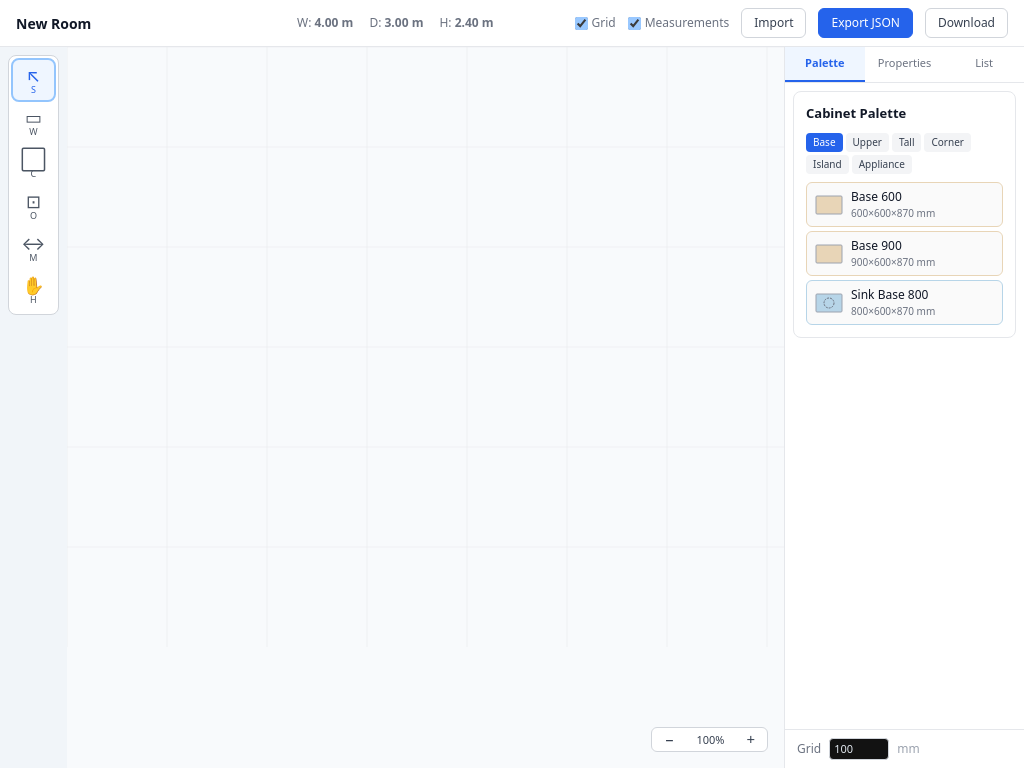
it: FloorPlanEditor interactions › zoom reset button restores 100%
Click the button with test id "zoom-in-btn" at (751, 740), box x1=740 y1=730 x2=761 y2=749
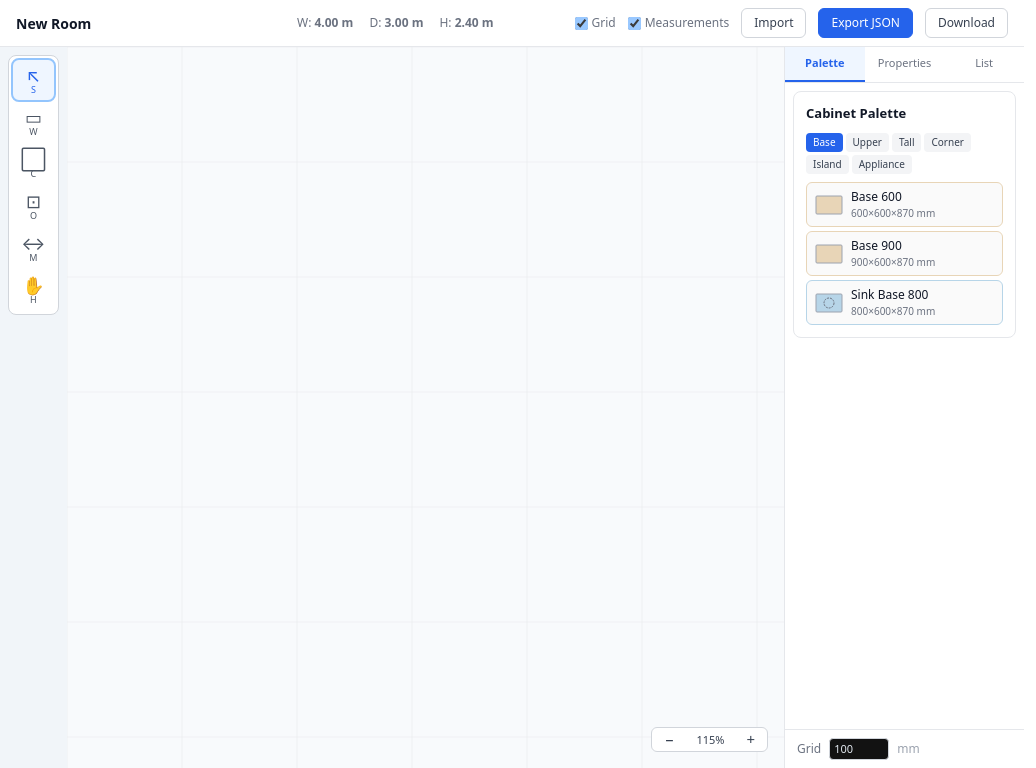
Click the button with test id "zoom-in-btn" at (751, 740), box x1=740 y1=730 x2=761 y2=749
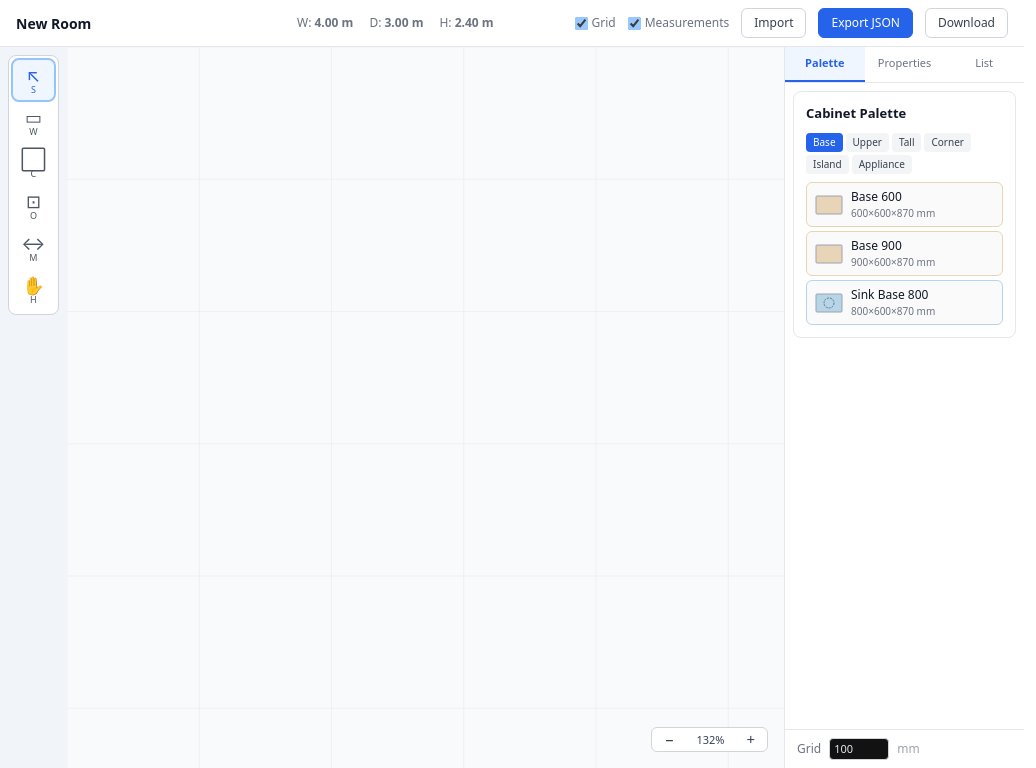
Click the button with test id "zoom-reset-btn" at (710, 740), box x1=684 y1=732 x2=736 y2=747
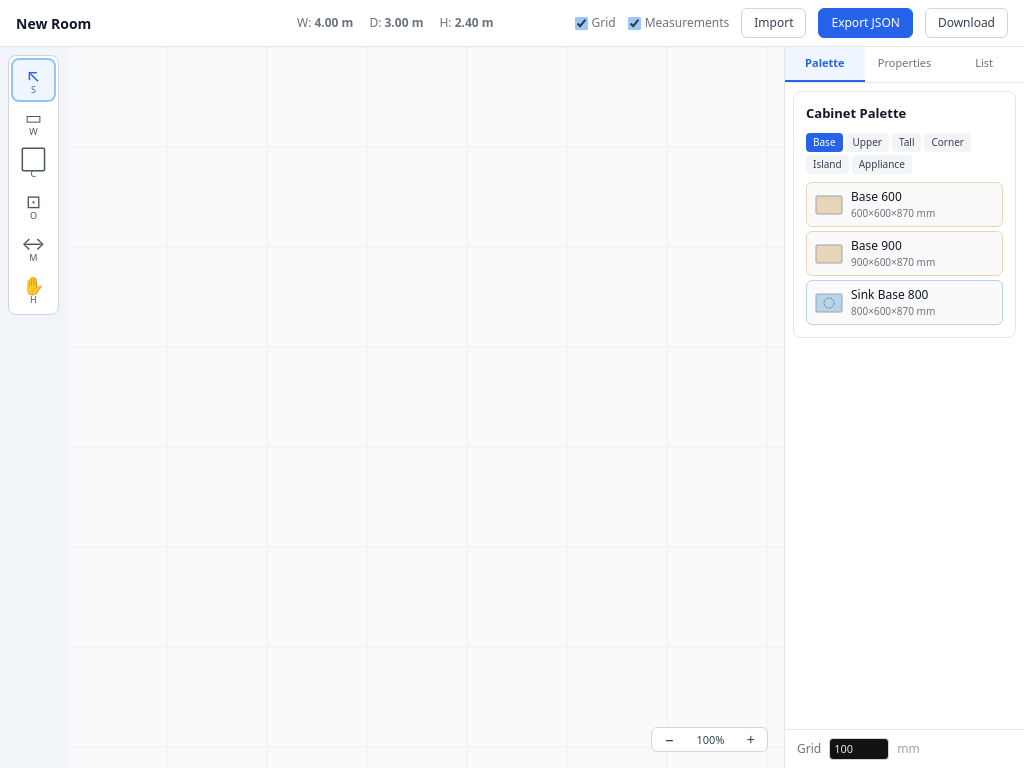
Now the button with test id "zoom-reset-btn" reads "100%", box x1=684 y1=732 x2=736 y2=747
